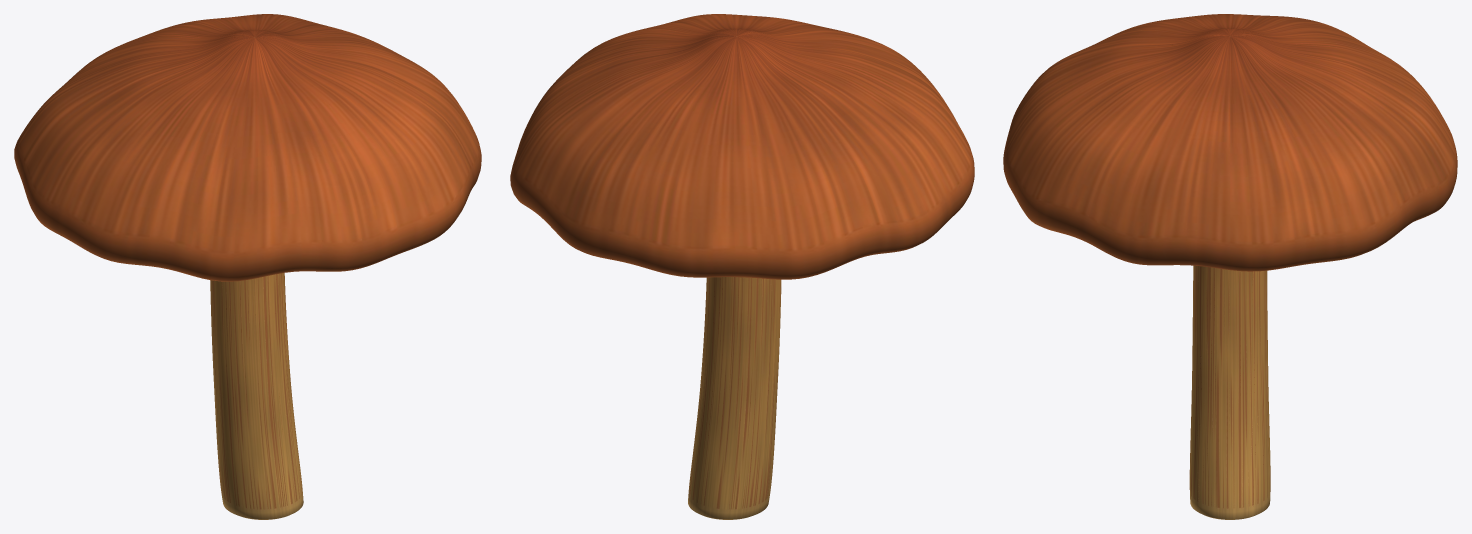
Rendered from cortinarius-orellanus.glb.
The picture shows the model from 3 angles, left to right: view 1: azimuth 30°, elevation 25°; view 2: azimuth 150°, elevation 25°; view 3: azimuth 270°, elevation 25°; orthographic projection.
Bounding box in the file's own units: 0.8112 × 0.92 × 0.8109.
1 material, 1 textured.
